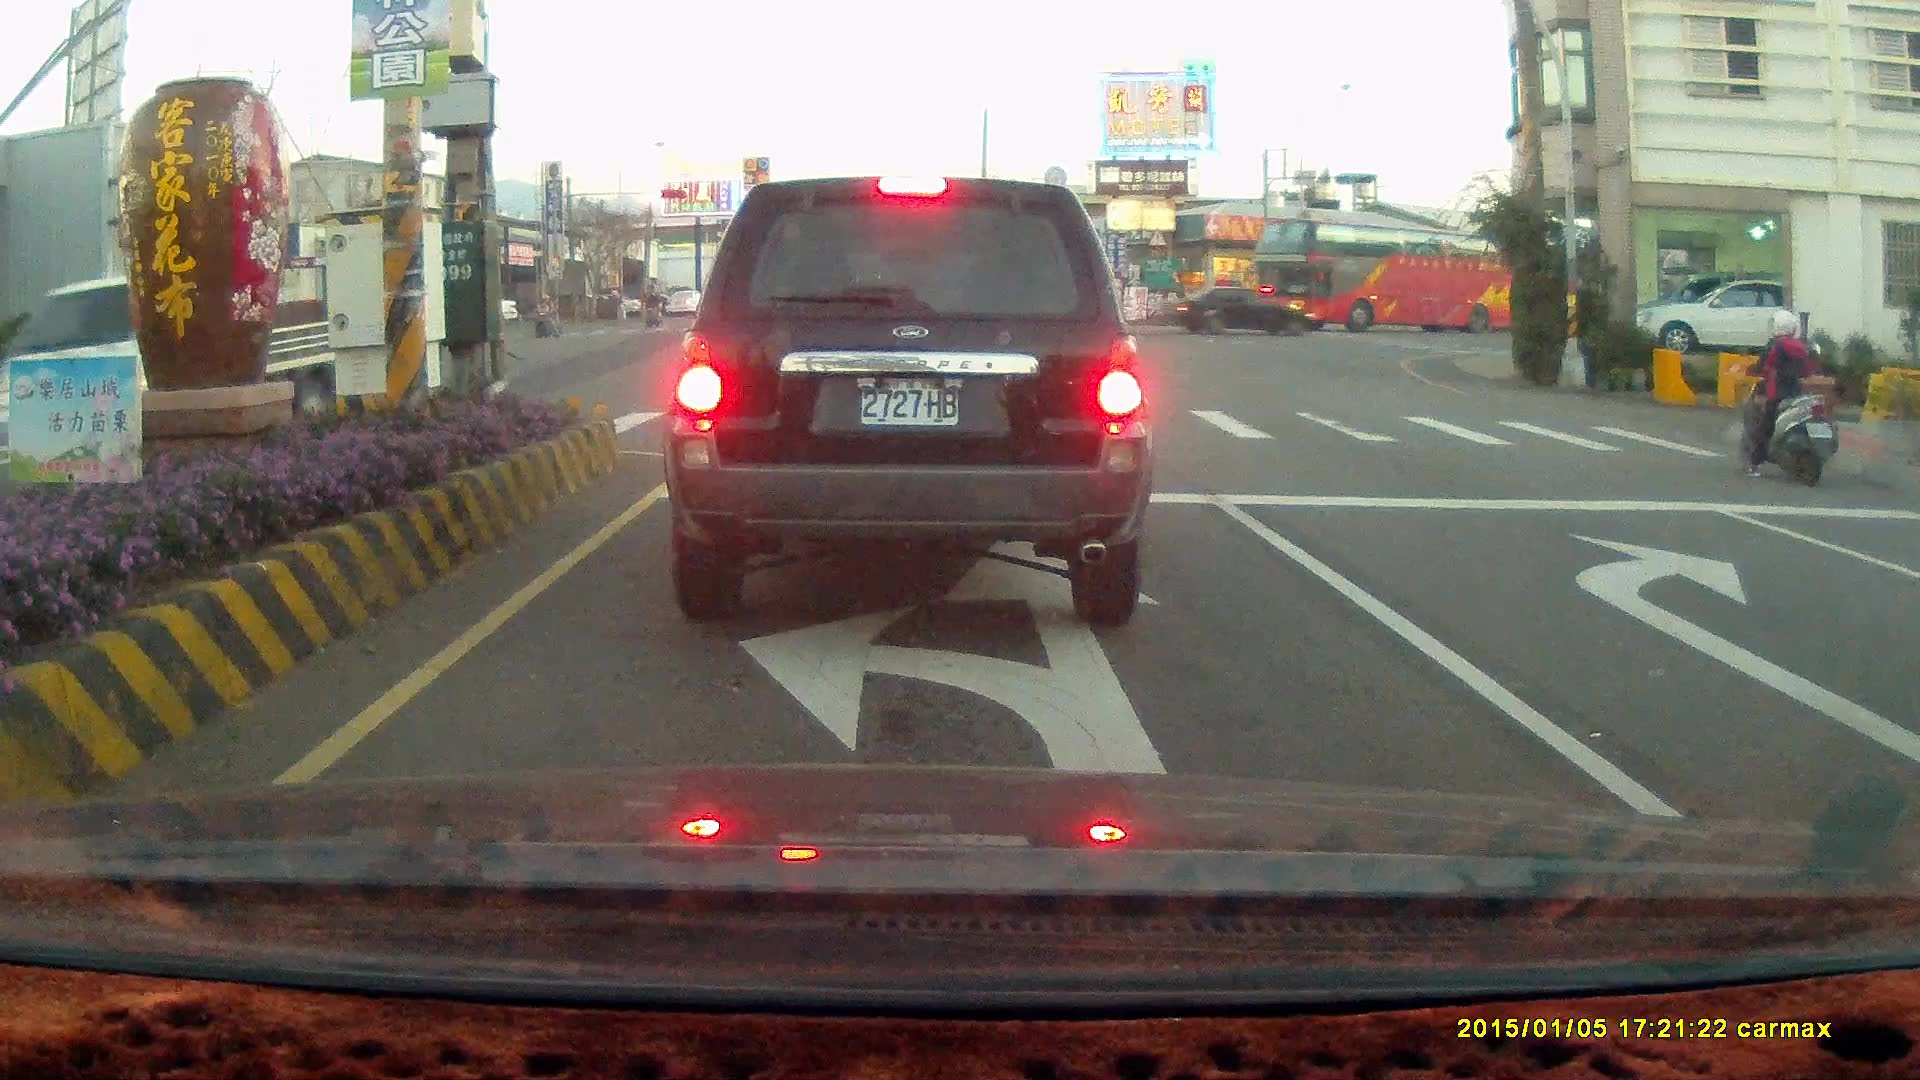rider: (1727, 307, 1836, 484), (532, 292, 560, 339), (641, 290, 662, 327)
vehicle: (659, 173, 1155, 630), (1237, 220, 1556, 334), (1622, 275, 1831, 354), (1642, 275, 1784, 356), (1162, 284, 1317, 340), (1896, 493, 1920, 836), (1883, 528, 1920, 690)
